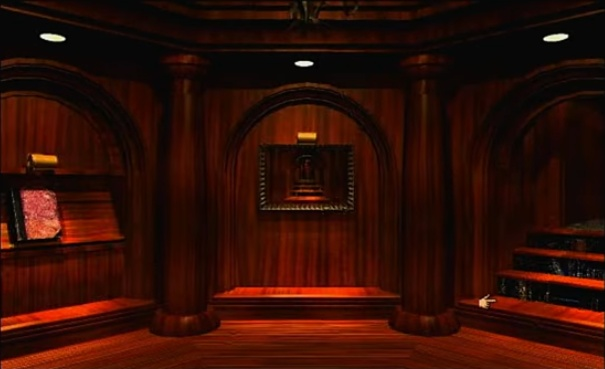Pointer: (476, 290, 500, 312)
